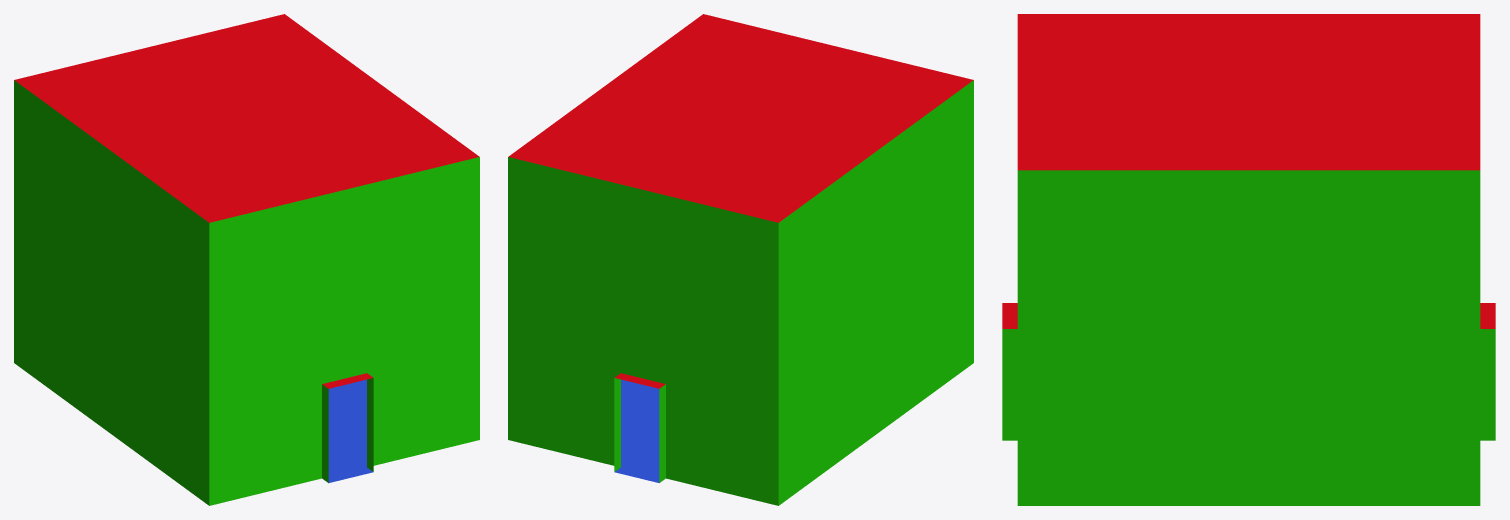
Rendered from 3x4_Room_Tall.fbx.
3 renders of one model, left to right at view 1: azimuth 30°, elevation 25°; view 2: azimuth 150°, elevation 25°; view 3: azimuth 270°, elevation 25°, orthographic. The views are drawn at different scales.
Visible parts, largest first — view 1: 3x4 Room Tall; view 2: 3x4 Room Tall; view 3: 3x4 Room Tall.
Boxes of the visible parts, x1=… form: 3x4 Room Tall: x1=14, y1=14, x2=479, y2=505; 3x4 Room Tall: x1=508, y1=14, x2=973, y2=505; 3x4 Room Tall: x1=1002, y1=14, x2=1495, y2=505.
Size of the model in its own units: 2400 by 2400 by 3200.
